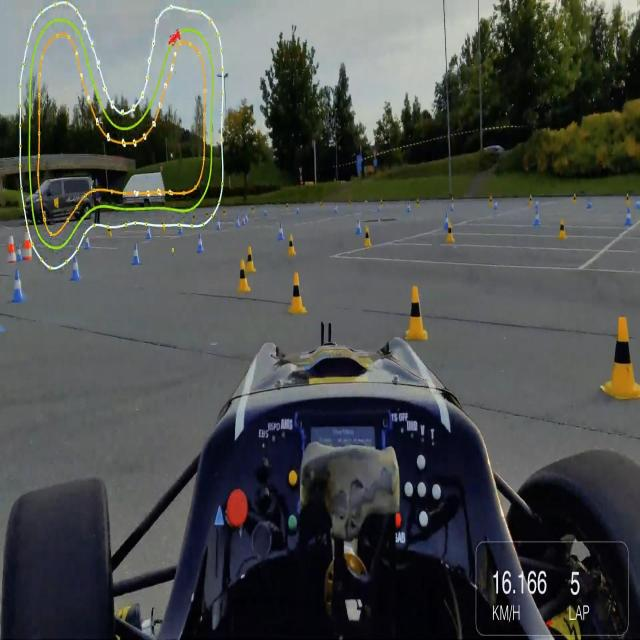blue_cone: (5, 266, 31, 309), (64, 252, 85, 294), (125, 237, 140, 266)
yellow_cone: (599, 307, 640, 403), (401, 281, 429, 342), (286, 263, 308, 322), (232, 254, 253, 296), (283, 231, 300, 257)
